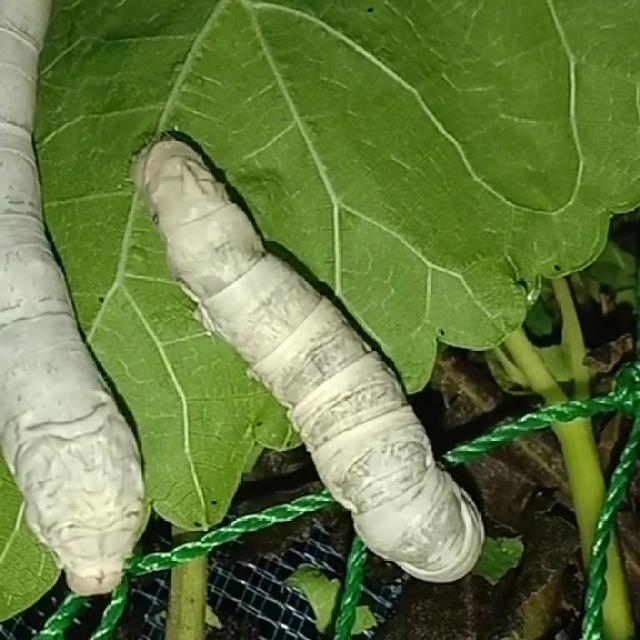Grasserie: (113, 128, 568, 640)
